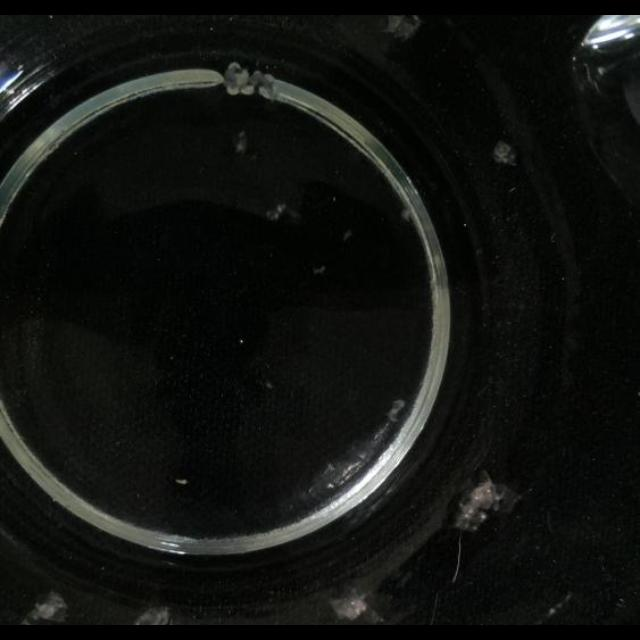Fibre: (220, 62, 274, 100), (23, 591, 68, 623), (385, 16, 421, 42), (546, 594, 574, 618), (492, 140, 516, 166), (136, 608, 166, 624), (386, 400, 406, 422), (233, 131, 249, 155), (400, 208, 412, 222)
microbeads: (312, 264, 326, 276), (175, 477, 189, 485), (264, 380, 274, 390), (238, 338, 244, 346)
